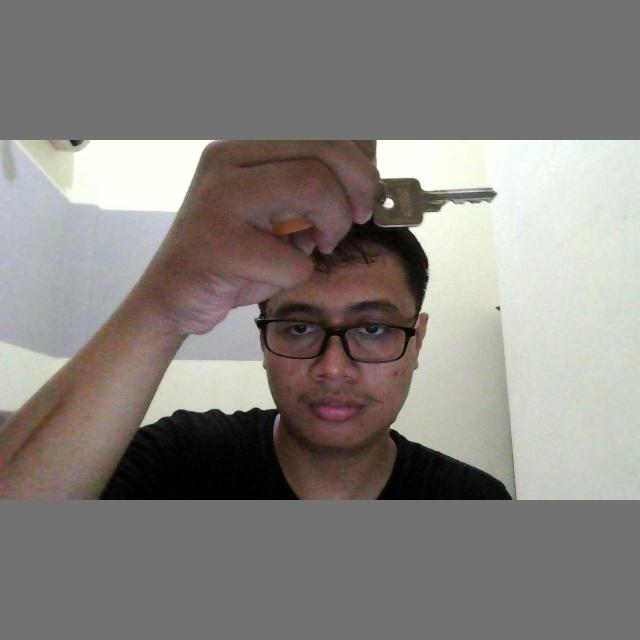Keys: (366, 171, 502, 233)
